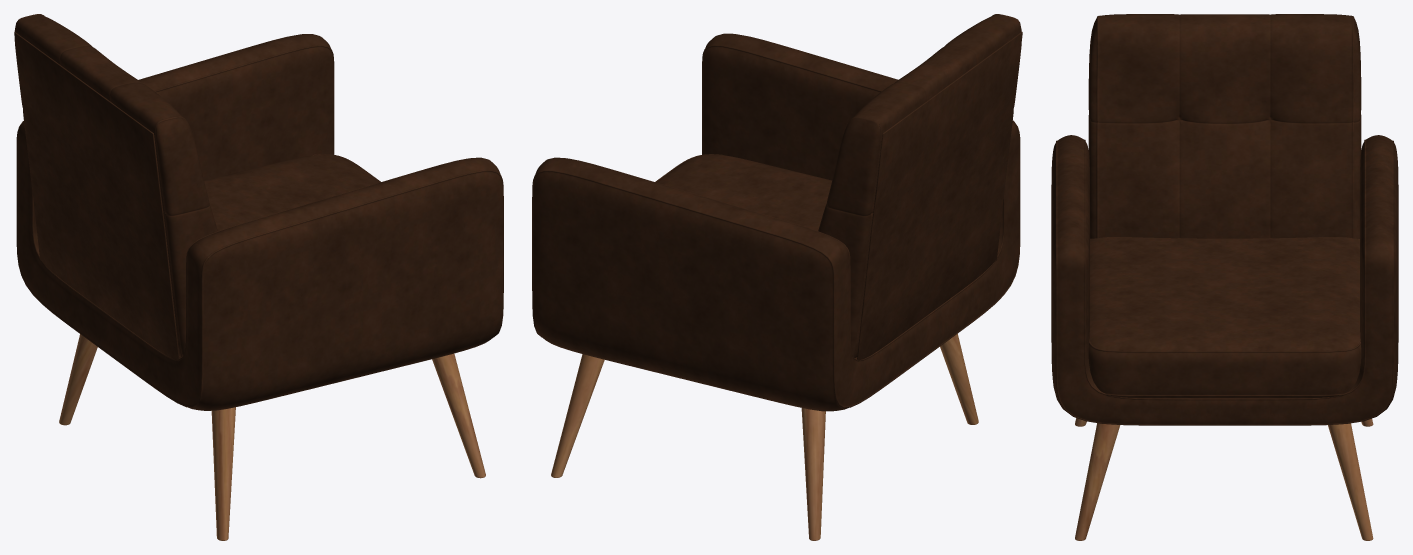
File: armchair.gltf
3 renders of one model, left to right at view 1: azimuth 30°, elevation 25°; view 2: azimuth 150°, elevation 25°; view 3: azimuth 270°, elevation 25°, orthographic. The views are drawn at different scales.
Parts seen in each view (by area): view 1: Plane.001; view 2: Plane.001; view 3: Plane.001.
Boxes of the visible parts, box(x1,y1,x2,y2) form: Plane.001: box(14, 14, 503, 540); Plane.001: box(532, 14, 1022, 540); Plane.001: box(1051, 14, 1398, 540).
Bounding box in the file's own units: 0.6985 × 0.856 × 0.696.
Materials: 1 (1 with a texture image).
